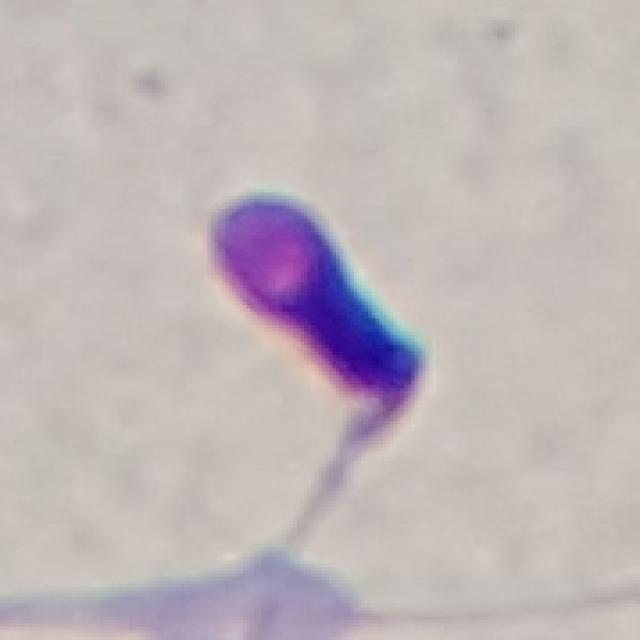abnormal sperm: (198, 190, 432, 517)
